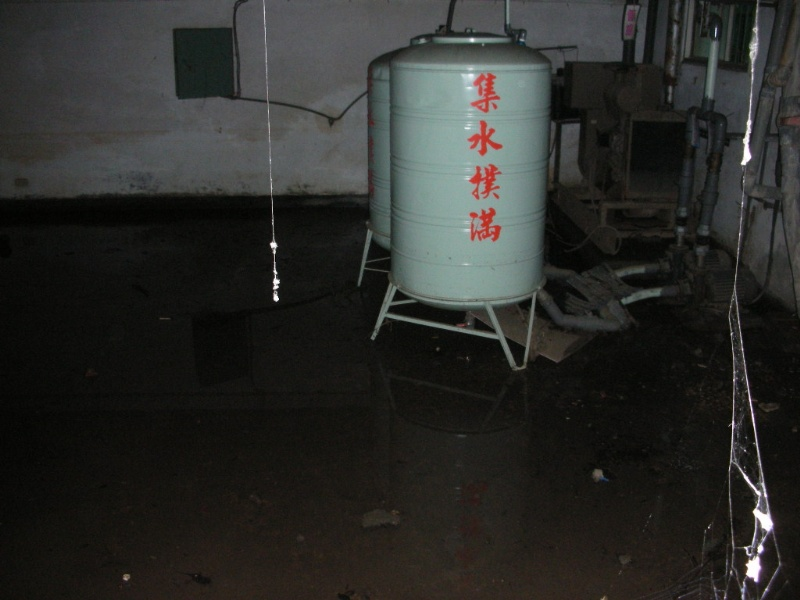water_tower: (368, 28, 557, 373)
